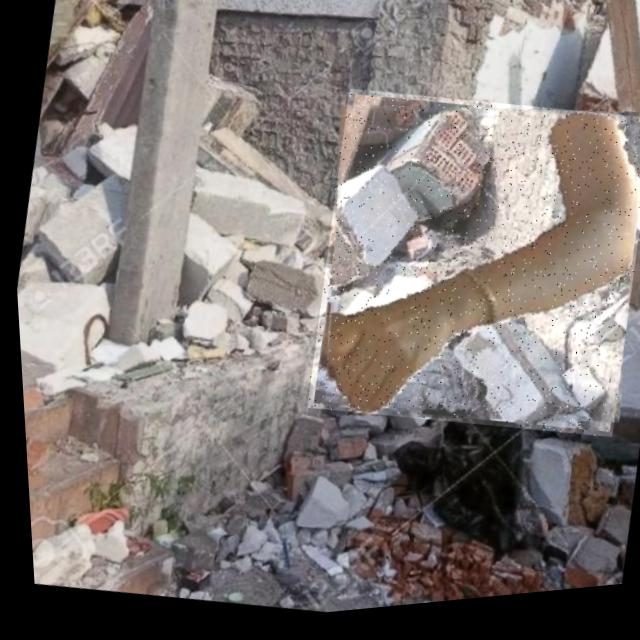Person in Rubble: (286, 73, 640, 472)
